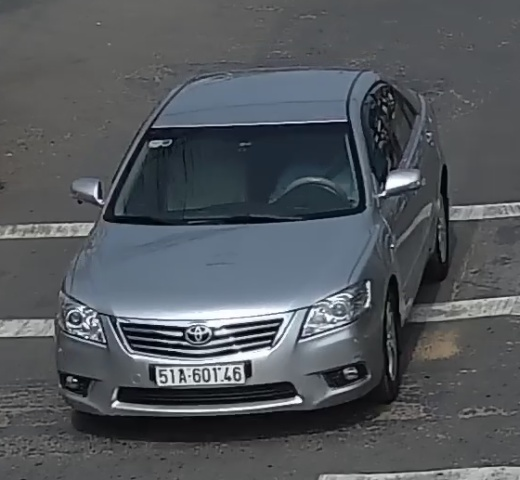vehicle plate: (148, 360, 256, 387)
